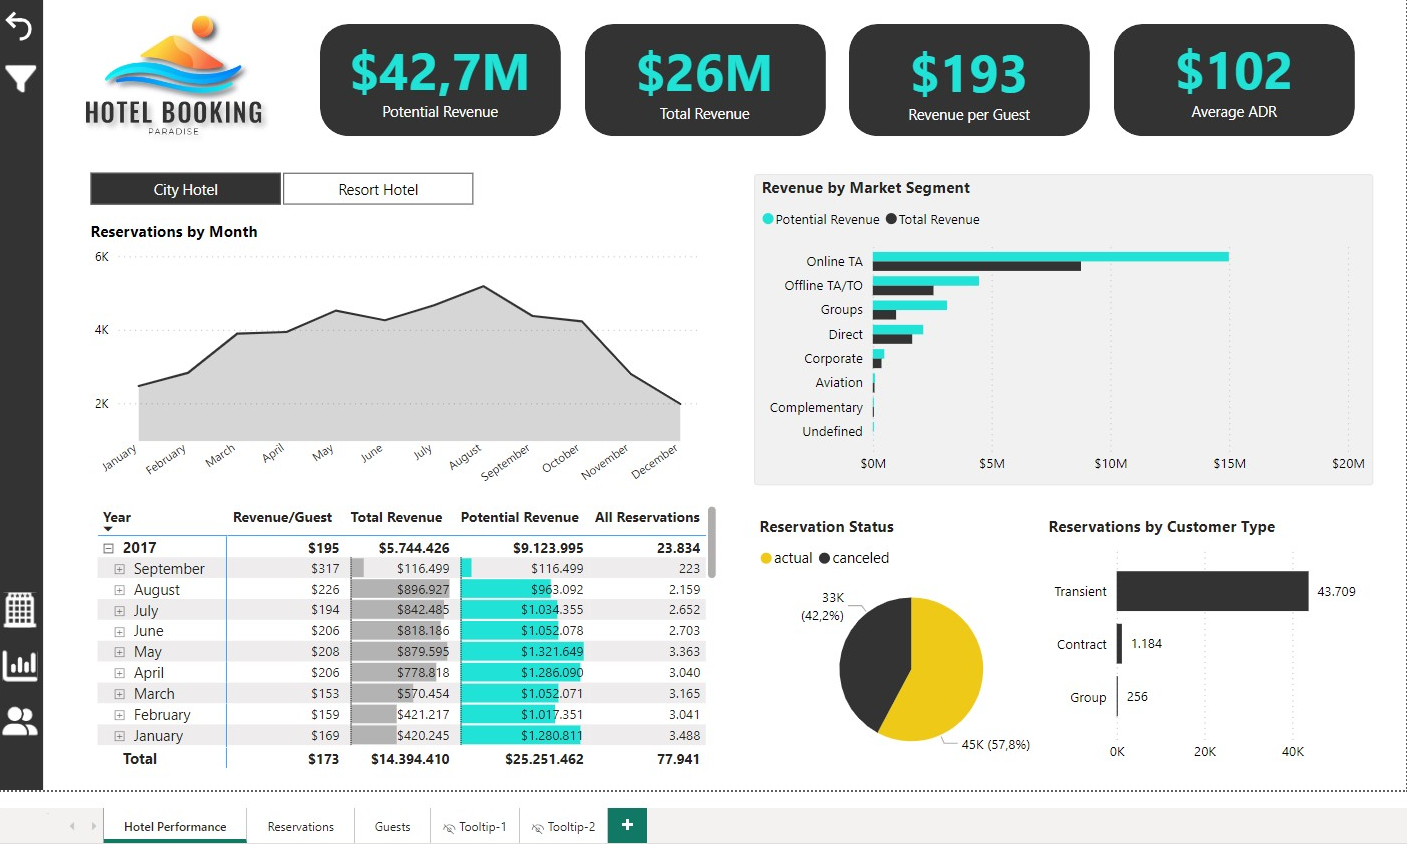

Layout of this report page (visuals, bound fields, positions):
{"tool":"powerbi","page":{"name":"Hotel Performance","canvas":[1280,720],"ordinal":0},"visuals":[{"type":"image","box":[59,7,207,135],"z":0},{"type":"group","id":"g1","title":"KPI Cards","box":[292.7,23.7,941,102],"z":0,"group":"g4"},{"type":"shape","box":[292.7,23.7,219,102],"z":0,"group":"g1"},{"type":"card","fields":{"Values":["Measures_Table.Potential Revenue"]},"box":[295.7,23.7,213,98],"z":0,"group":"g2"},{"type":"actionButton","box":[0,637.2,40.9,40],"z":0,"group":"g3"},{"type":"shape","title":"Left Nav Background","box":[0,0,41,720],"z":1000},{"type":"group","id":"g2","title":"KPI Values","box":[295.7,23.7,935,99.3],"z":1000,"group":"g4"},{"type":"shape","box":[533.4,23.7,219,102],"z":1000,"group":"g1"},{"type":"card","fields":{"Values":["Measures_Table.Total Revenue"]},"box":[536.7,25.7,212,97],"z":1000,"group":"g2"},{"type":"actionButton","box":[0,536,41,40],"z":1000,"group":"g3"},{"type":"shape","box":[774,23.7,219,102],"z":2000,"group":"g1"},{"type":"card","fields":{"Values":["Measures_Table.Average ADR"]},"box":[1017.7,23.7,213,97],"z":2000,"group":"g2"},{"type":"group","id":"g3","title":"Navigation Buttons","box":[0,536,41,141.2],"z":2000},{"type":"actionButton","box":[0,586.6,40.9,40],"z":2000,"group":"g3"},{"type":"group","id":"g4","title":"KPIs","box":[292.7,23.7,941,102],"z":3000},{"type":"shape","box":[1014.7,23.7,219,102],"z":3000,"group":"g1"},{"type":"card","fields":{"Values":["Measures_Table.Revenue per Guest"]},"box":[777,26,213,97],"z":3000,"group":"g2"},{"type":"clusteredBarChart","title":"Reservations by Customer Type","fields":{"Category":["hotel_bookings.customer_type"],"Y":["Measures_Table.Actual Reservations"]},"box":[950,470,303,233],"z":4000},{"type":"areaChart","title":"Reservations by Month","fields":{"Y":["Measures_Table.Actual Reservations"],"Category":["hotel_bookings.reservation_status_date.Variation.Date Hierarchy.Year","hotel_bookings.reservation_status_date.Variation.Date Hierarchy.Month"]},"box":[79,202,564,251],"z":5000},{"type":"actionButton","box":[0.5,7,41,36],"z":6000},{"type":"pieChart","title":"Reservation Status","fields":{"Y":["Measures_Table.All Reservations"],"Category":["hotel_bookings.actual/canceled"]},"box":[687,470,286,233],"z":7000},{"type":"pivotTable","fields":{"Values":["Measures_Table.Revenue per Guest","Measures_Table.Total Revenue","Measures_Table.Potential Revenue","Measures_Table.All Reservations"],"Rows":["hotel_bookings.reservation_status_date.Variation.Date Hierarchy.Year","hotel_bookings.reservation_status_date.Variation.Date Hierarchy.Month","hotel_bookings.reservation_status_date.Variation.Date Hierarchy.Day"]},"box":[85.5,456.4,572.7,249.1],"z":8000},{"type":"slicer","fields":{"Values":["hotel_bookings.hotel"]},"box":[58,152,398,43],"z":9000},{"type":"actionButton","box":[3,55,39,36],"z":10000},{"type":"clusteredBarChart","title":"Revenue by Market Segment","fields":{"Category":["hotel_bookings.market_segment"],"Y":["Measures_Table.Potential Revenue","Measures_Table.Total Revenue"]},"box":[687,160,563,283],"z":12000}]}

Visuals, with their boxes on the page's 1280x720 design canvas (x1, y1, x2, y2). These are canvas units, not pixel positions in the 1407x844 screenshot, which may show the page scaled, cropped or inside an application window:
image: {"x1": 59, "y1": 7, "x2": 266, "y2": 142}
"KPI Cards" group: {"x1": 293, "y1": 24, "x2": 1234, "y2": 126}
shape: {"x1": 293, "y1": 24, "x2": 512, "y2": 126}
card - Measures_Table.Potential Revenue: {"x1": 296, "y1": 24, "x2": 509, "y2": 122}
actionButton: {"x1": 0, "y1": 637, "x2": 41, "y2": 677}
"Left Nav Background" shape: {"x1": 0, "y1": 0, "x2": 41, "y2": 720}
"KPI Values" group: {"x1": 296, "y1": 24, "x2": 1231, "y2": 123}
shape: {"x1": 533, "y1": 24, "x2": 752, "y2": 126}
card - Measures_Table.Total Revenue: {"x1": 537, "y1": 26, "x2": 749, "y2": 123}
actionButton: {"x1": 0, "y1": 536, "x2": 41, "y2": 576}
shape: {"x1": 774, "y1": 24, "x2": 993, "y2": 126}
card - Measures_Table.Average ADR: {"x1": 1018, "y1": 24, "x2": 1231, "y2": 121}
"Navigation Buttons" group: {"x1": 0, "y1": 536, "x2": 41, "y2": 677}
actionButton: {"x1": 0, "y1": 587, "x2": 41, "y2": 627}
"KPIs" group: {"x1": 293, "y1": 24, "x2": 1234, "y2": 126}
shape: {"x1": 1015, "y1": 24, "x2": 1234, "y2": 126}
card - Measures_Table.Revenue per Guest: {"x1": 777, "y1": 26, "x2": 990, "y2": 123}
"Reservations by Customer Type" clusteredBarChart: {"x1": 950, "y1": 470, "x2": 1253, "y2": 703}
"Reservations by Month" areaChart: {"x1": 79, "y1": 202, "x2": 643, "y2": 453}
actionButton: {"x1": 0, "y1": 7, "x2": 42, "y2": 43}
"Reservation Status" pieChart: {"x1": 687, "y1": 470, "x2": 973, "y2": 703}
pivotTable - Measures_Table.Revenue per Guest x Measures_Table.Total Revenue: {"x1": 86, "y1": 456, "x2": 658, "y2": 706}
slicer - hotel_bookings.hotel: {"x1": 58, "y1": 152, "x2": 456, "y2": 195}
actionButton: {"x1": 3, "y1": 55, "x2": 42, "y2": 91}
"Revenue by Market Segment" clusteredBarChart: {"x1": 687, "y1": 160, "x2": 1250, "y2": 443}
